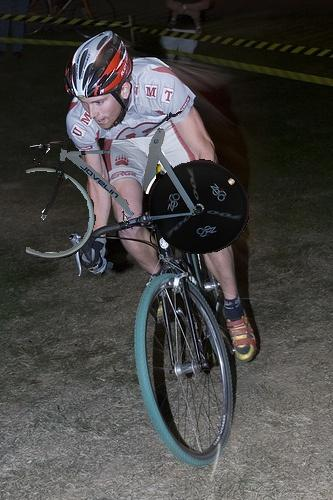tampered: (27, 111, 249, 258)
